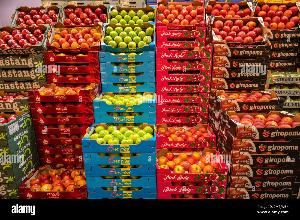apple: (220, 109, 300, 136), (155, 146, 225, 176), (89, 118, 155, 148), (208, 82, 282, 108), (25, 168, 87, 198), (154, 121, 216, 145), (212, 18, 264, 46), (104, 24, 157, 50), (99, 89, 157, 111), (258, 0, 300, 30), (50, 24, 102, 48), (159, 0, 204, 26), (0, 28, 48, 50), (34, 82, 92, 100), (59, 5, 105, 25), (14, 5, 58, 24), (205, 1, 257, 17), (108, 5, 158, 21), (0, 106, 28, 126), (0, 88, 30, 102)
